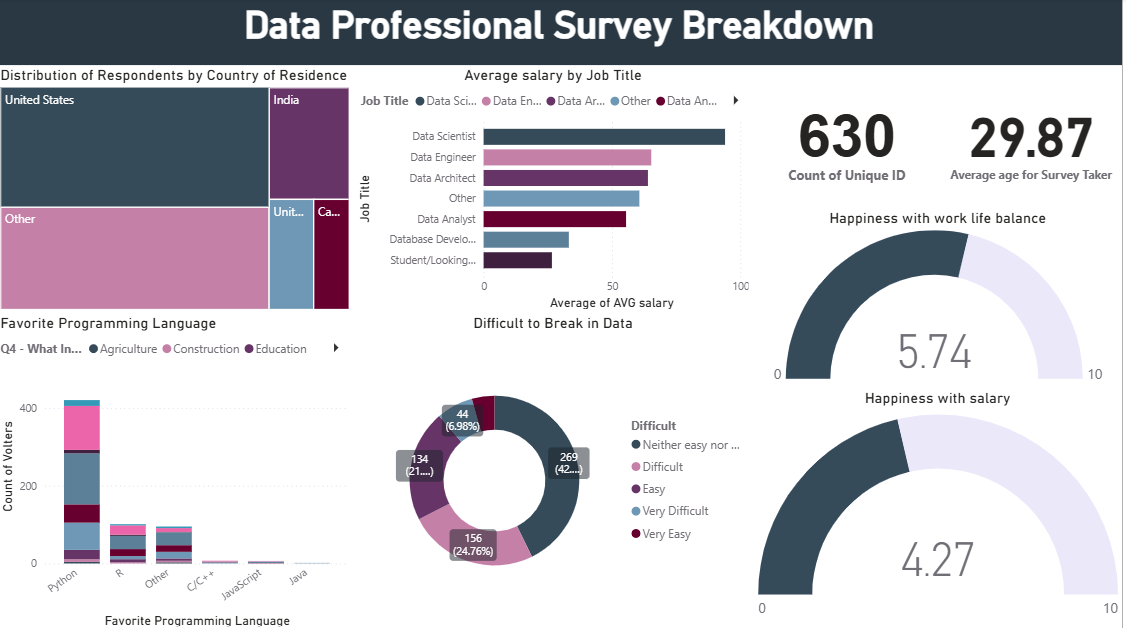

Layout of this report page (visuals, bound fields, positions):
{"tool":"powerbi","page":{"name":"Page 1","canvas":[1280,720],"ordinal":0},"visuals":[{"type":"textbox","box":[0,0,1279.4,77.5],"z":0},{"type":"card","fields":{"Values":["CountNonNull(Data Professional Survey (2).Unique ID)"]},"box":[860.6,80.4,211.5,160.7],"z":1000},{"type":"card","fields":{"Values":["Avg(Data Professional Survey (2).Q10 - Current Age)"]},"box":[1072.1,80.4,207.2,160.7],"z":2000},{"type":"barChart","title":"Average  salary by Job Title","fields":{"Category":["Data Professional Survey (2).Q1 - Which Title Best Fits your Current Role?.1"],"Y":["Avg(Data Professional Survey (2).AVG salary)"],"Series":["Data Professional Survey (2).Q1 - Which Title Best Fits your Current Role?.1"]},"box":[406,78.2,454.6,281.2],"z":3000},{"type":"columnChart","title":" Favorite Programming Language","fields":{"Category":["Data Professional Survey (2).Q5 - Favorite Programming Language.1"],"Y":["CountNonNull(Data Professional Survey (2).Unique ID)"],"Series":["Data Professional Survey (2).Q4 - What Industry do you work in?.1"]},"box":[0,359.5,406,361.6],"z":4000},{"type":"treemap","title":"Distribution of Respondents by Country of Residence","fields":{"Group":["Data Professional Survey (2).Q11 - Which Country do you live in?.1"],"Values":["CountNonNull(Data Professional Survey (2).Q11 - Which Country do you live in?.1)"]},"box":[0,78.2,406,281.2],"z":5000},{"type":"gauge","title":"Happiness  with work life balance","fields":{"Y":["Avg(Data Professional Survey (2).Q6 - How Happy are you in your Current Position with the following? (Work/Life Balance)"],"MinValue":["Min(Data Professional Survey (2).Q6 - How Happy are you in your Current Position with the following? (Learning New Thing"],"MaxValue":["Max(Data Professional Survey (2).Q6 - How Happy are you in your Current Position with the following? (Management))"]},"box":[860.6,241.1,418.7,203],"z":6000},{"type":"gauge","title":"Happiness with salary ","fields":{"Y":["Avg(Data Professional Survey (2).Q6 - How Happy are you in your Current Position with the following? (Salary))"],"MinValue":["Min(Data Professional Survey (2).Q6 - How Happy are you in your Current Position with the following? (Management))"],"MaxValue":["Max(Data Professional Survey (2).Q6 - How Happy are you in your Current Position with the following? (Upward Mobility))"]},"box":[860.6,444.1,418.7,274.9],"z":7000},{"type":"donutChart","title":"Difficult to Break in Data","fields":{"Category":["Data Professional Survey (2).Q7 - How difficult was it for you to break into Data?"],"Y":["CountNonNull(Data Professional Survey (2).Q7 - How difficult was it for you to break into Data?)"]},"box":[406,359.5,454.6,359.5],"z":8000}]}

Visuals, with their boxes in screenshot pixels (x1, y1, x2, y2), scaled from the page's 1280x720 canvas onto the 1126x628 screenshot:
textbox: [0,0,1125,68]
card - CountNonNull(Data Professional Survey (2).Unique ID): [757,70,943,210]
card - Avg(Data Professional Survey (2).Q10 - Current Age): [943,70,1125,210]
"Average  salary by Job Title" barChart: [357,68,757,313]
" Favorite Programming Language" columnChart: [0,314,357,627]
"Distribution of Respondents by Country of Residence" treemap: [0,68,357,313]
"Happiness  with work life balance" gauge: [757,210,1125,387]
"Happiness with salary " gauge: [757,387,1125,627]
"Difficult to Break in Data" donutChart: [357,314,757,627]
